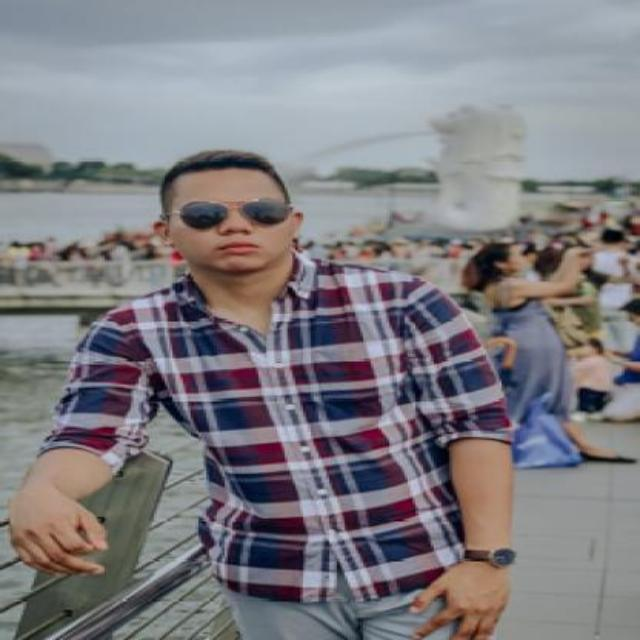glasses: (157, 198, 295, 230)
